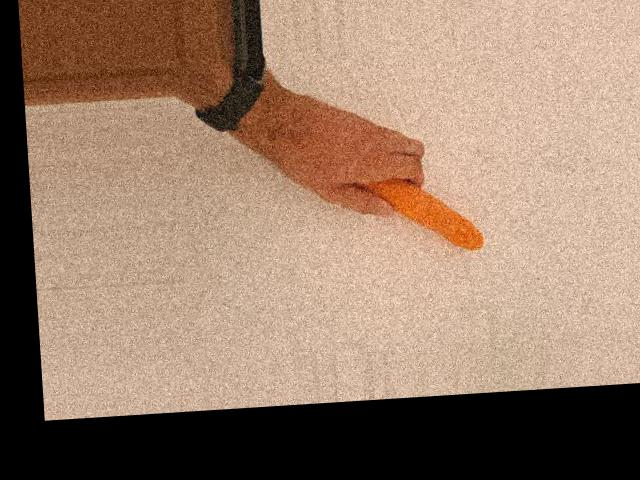carrot: (348, 172, 483, 258)
